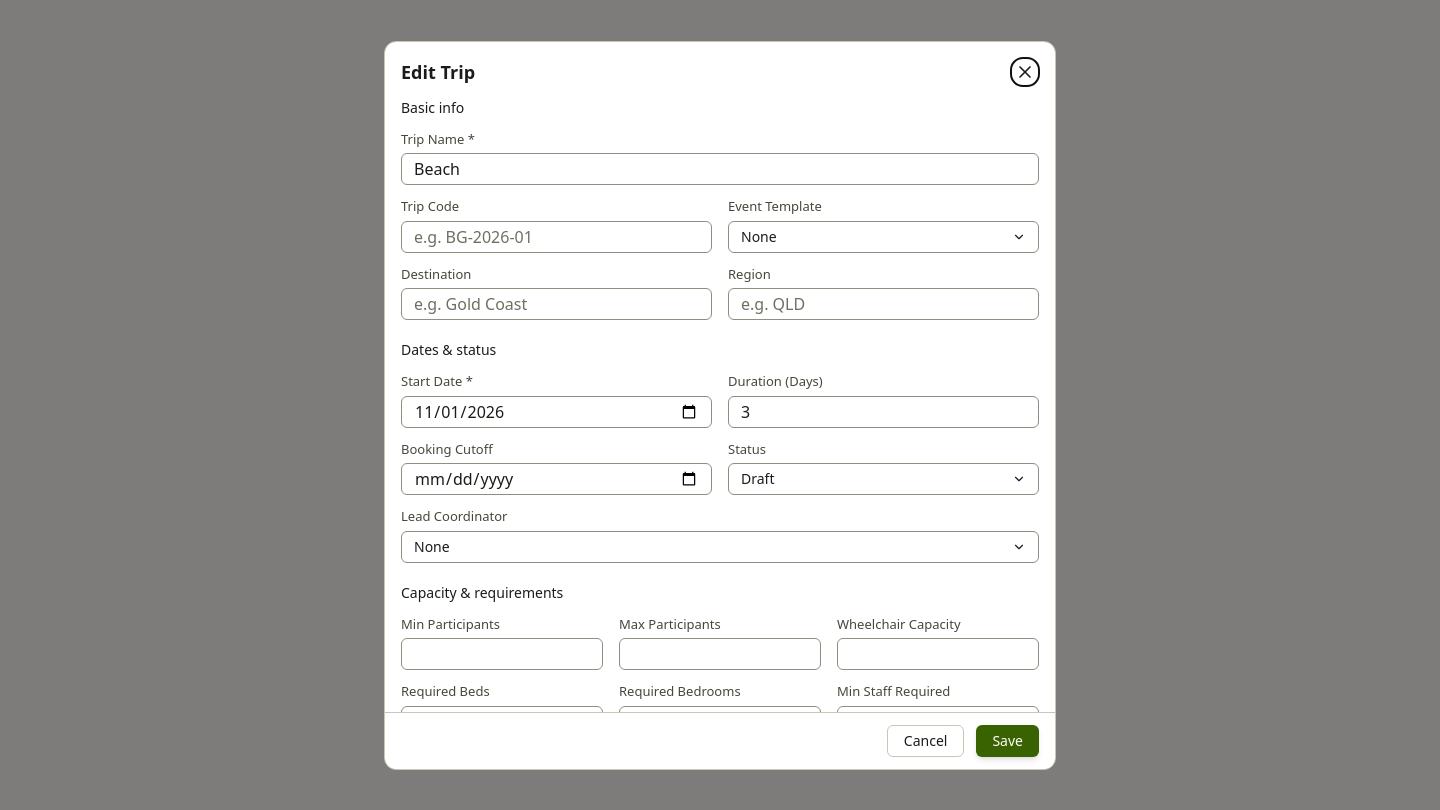
Test case: EditTripModal — what Save refuses › clears a field error once the field is corrected
Clear the date field labelled "Start Date *" at [556, 412], box [401,396,712,428]
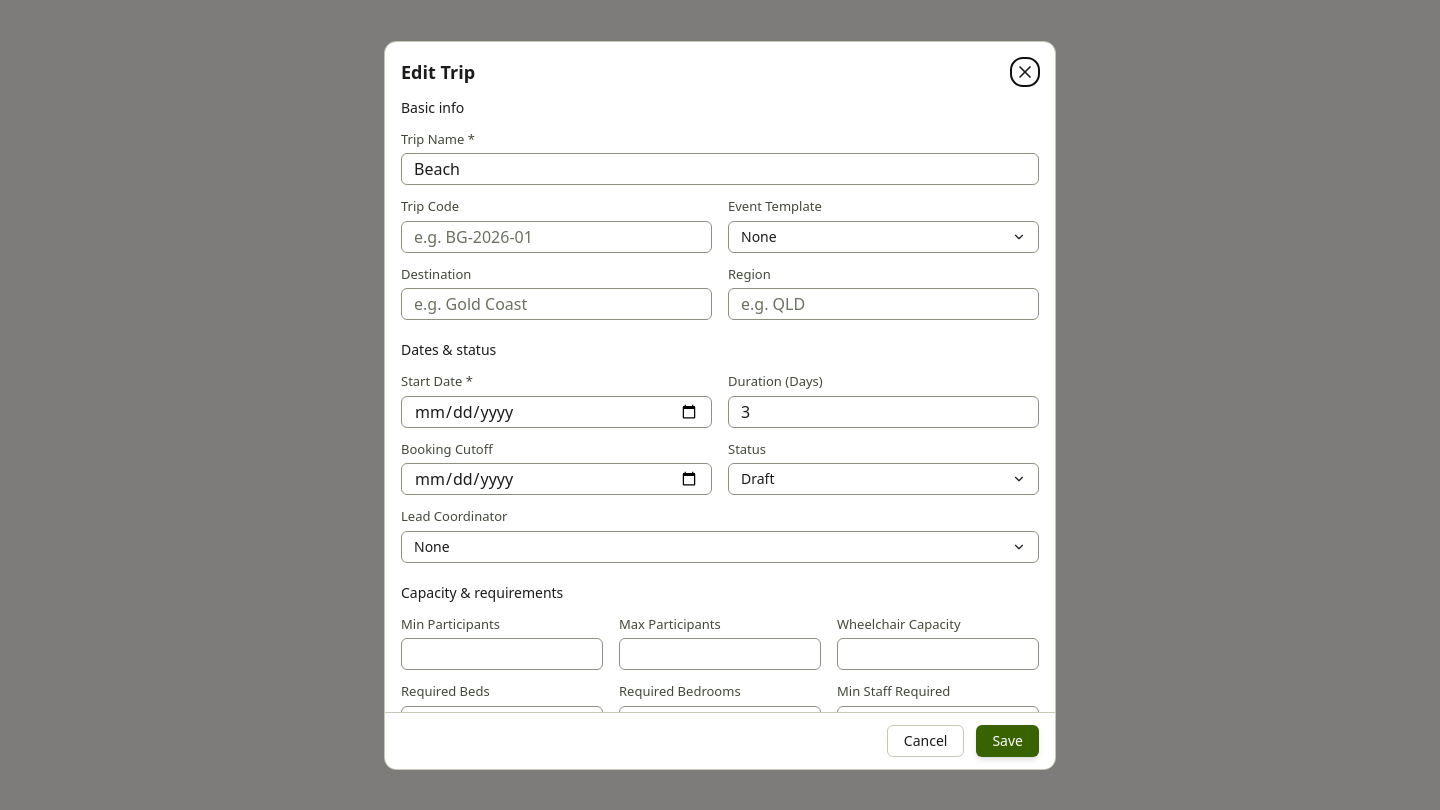
Click the button "Save" at [1008, 740], box [976,724,1039,756]
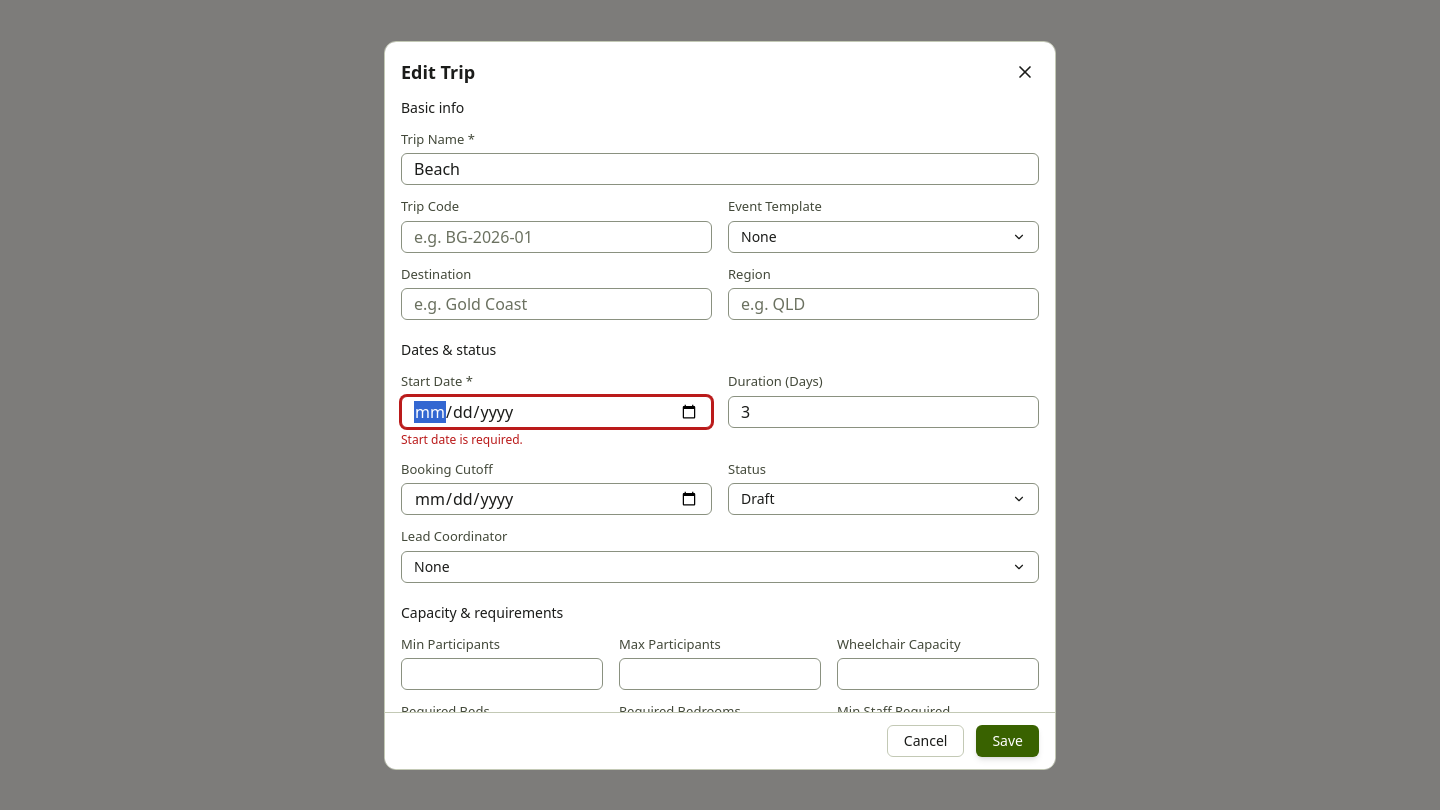
Type "2026-12-01" into the date field labelled "Start Date *" at [556, 412], box [401,396,712,428]
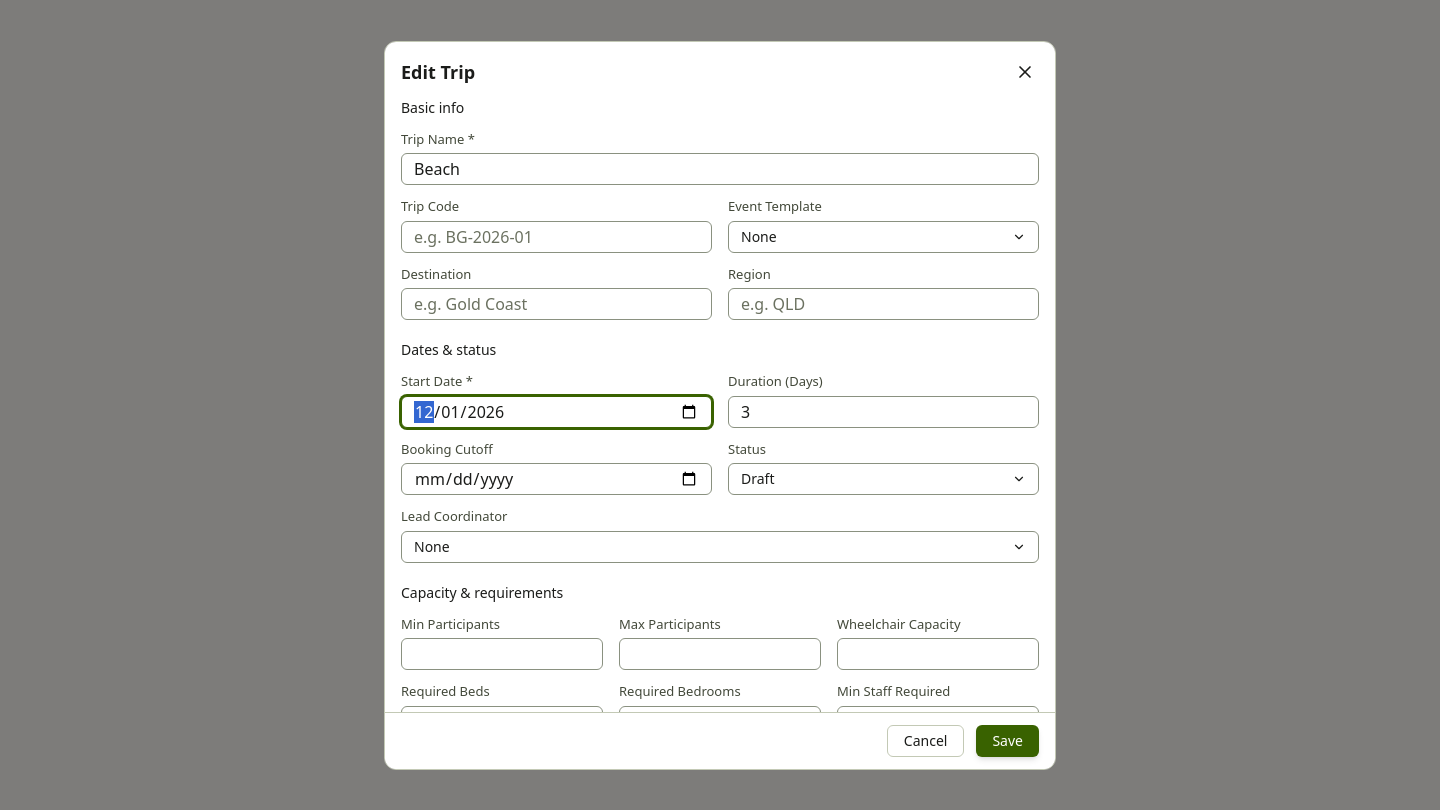
Check: the text "Start date is required." is gone
